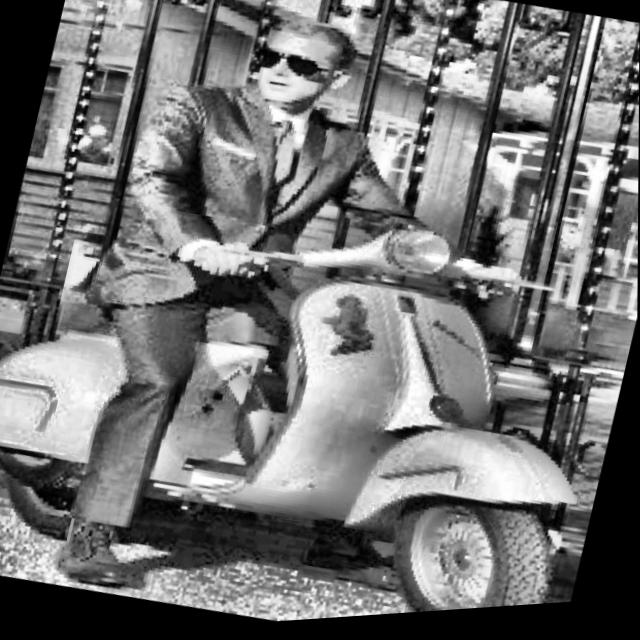motorcycle: (0, 121, 624, 640)
